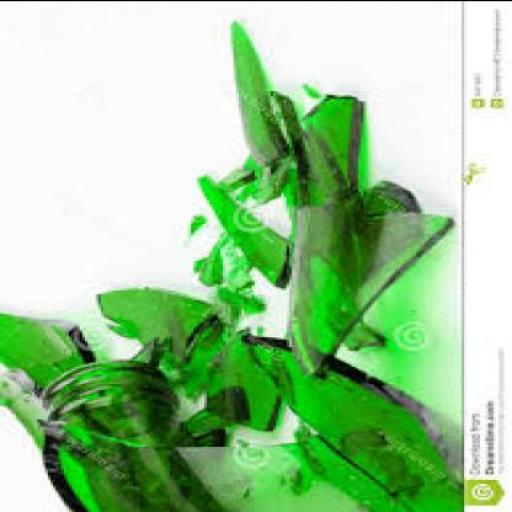glass: (0, 314, 219, 511), (241, 336, 457, 511), (286, 198, 446, 374), (324, 180, 424, 358), (40, 365, 168, 453), (191, 174, 284, 289), (93, 293, 210, 373), (228, 16, 286, 166), (280, 433, 388, 511), (294, 94, 361, 208), (210, 330, 281, 432), (168, 319, 220, 400), (180, 389, 231, 442), (184, 244, 220, 289), (236, 178, 281, 211), (268, 149, 292, 209), (212, 290, 254, 324), (119, 338, 159, 370), (212, 166, 254, 193), (220, 258, 252, 293), (178, 219, 207, 239), (292, 82, 321, 100)
